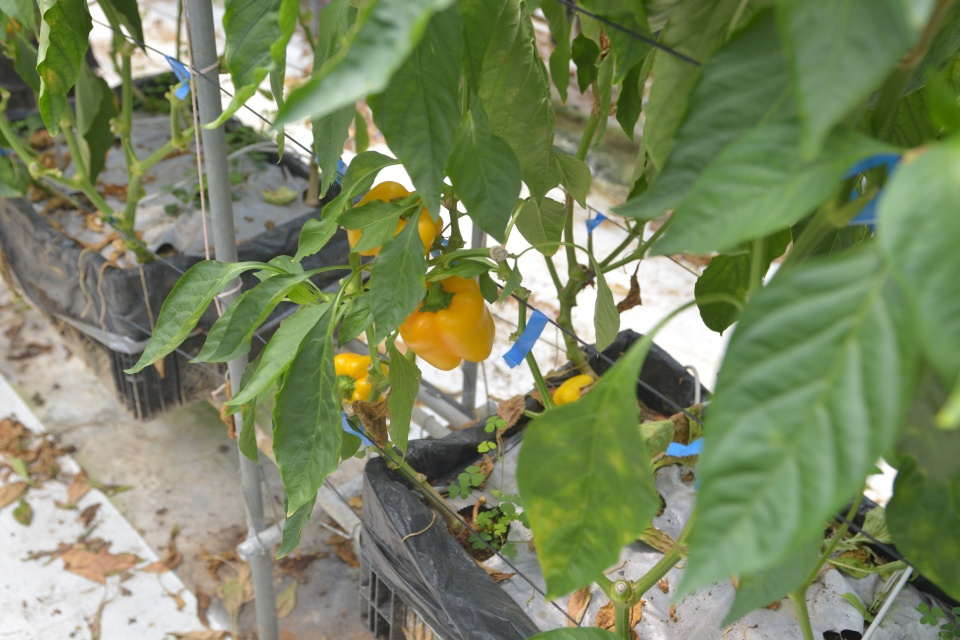fruit: (395, 271, 498, 370), (346, 184, 445, 259), (332, 350, 391, 406), (549, 371, 596, 405)
pedicle: (419, 288, 456, 312), (337, 375, 356, 398)
